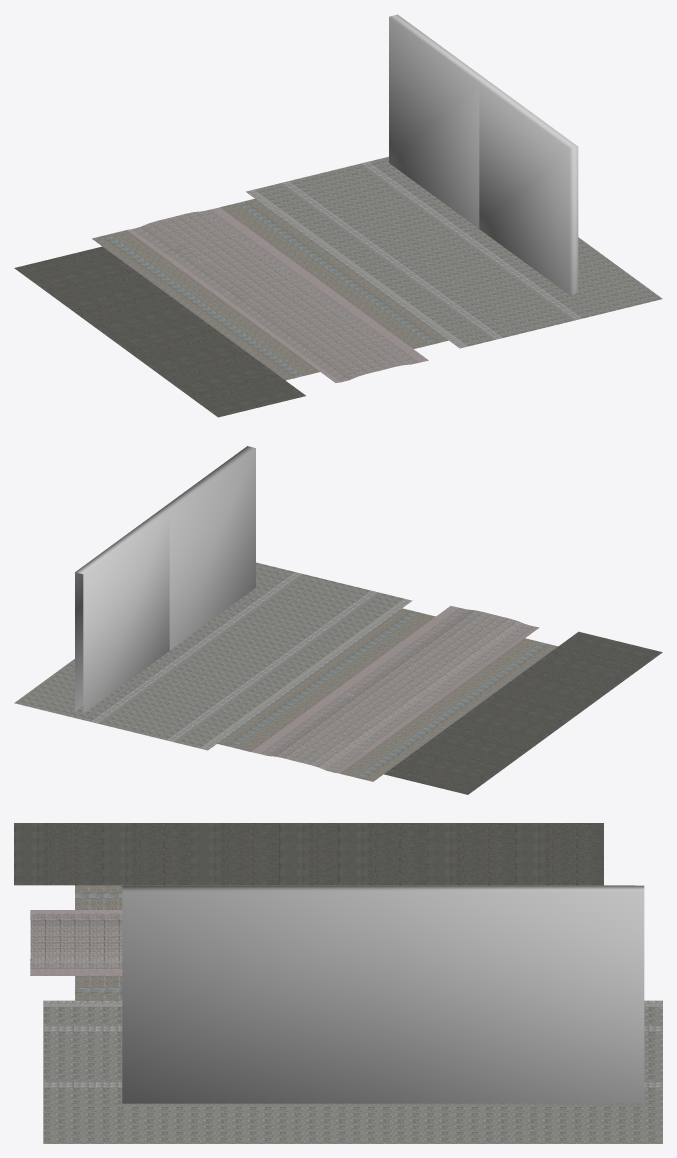
Rendered from Final_Achaval Rodriguez.fbx.
3 renders of one model, top to bottom at view 1: azimuth 30°, elevation 25°; view 2: azimuth 150°, elevation 25°; view 3: azimuth 270°, elevation 25°, orthographic. The views are drawn at different scales.
Visible parts, largest first — view 1: AchavalRodriguez_Street.001; view 2: AchavalRodriguez_Street.001; view 3: AchavalRodriguez_Street.001.
Part boxes in pixels (bbox=[...]): AchavalRodriguez_Street.001: bbox=[14, 14, 662, 417]; AchavalRodriguez_Street.001: bbox=[14, 446, 662, 794]; AchavalRodriguez_Street.001: bbox=[14, 823, 662, 1143].
Size of the model in its own units: 51.48 by 15.86 by 44.
